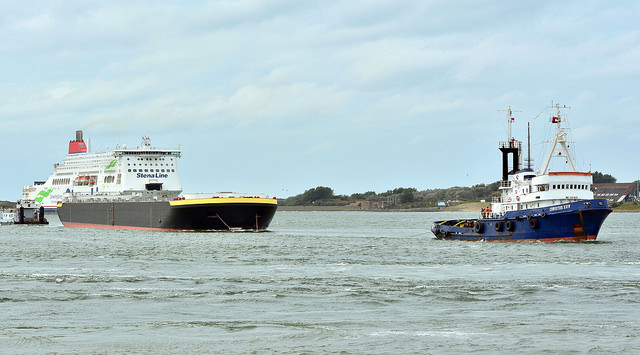boat: (54, 185, 276, 236)
cruise_ship: (22, 125, 182, 195)
tug_boat: (429, 102, 615, 249)
